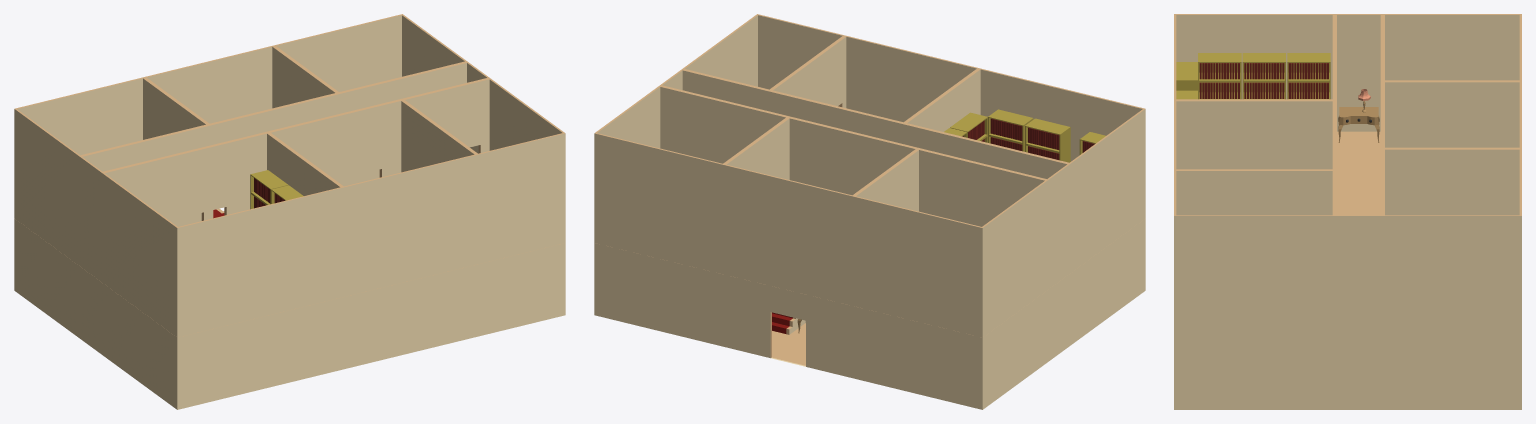
Rendered from hauntedmansion.glb.
3 renders of one model, left to right at view 1: azimuth 30°, elevation 25°; view 2: azimuth 150°, elevation 25°; view 3: azimuth 270°, elevation 25°, orthographic. The views are drawn at different scales.
Visible parts, largest first — view 1: Plane.002, Walls, Cube.007; view 2: Plane.002, Walls, Cube.012, Cube.011, Floor plane, Cube.009; view 3: Plane.002, Walls, Plane.003, Cube.014, Cube.016, Cube.015, Table.001, Cube.013.
Boxes of the visible parts, x1=… form: Plane.002: x1=14, y1=14, x2=565, y2=337; Walls: x1=14, y1=218, x2=565, y2=409; Cube.007: x1=250, y1=170, x2=288, y2=209; Plane.002: x1=594, y1=14, x2=1145, y2=337; Walls: x1=594, y1=218, x2=1145, y2=409; Cube.012: x1=1025, y1=118, x2=1070, y2=162; Cube.011: x1=988, y1=109, x2=1033, y2=151; Floor plane: x1=772, y1=323, x2=805, y2=365; Cube.009: x1=950, y1=112, x2=987, y2=142; Plane.002: x1=1174, y1=14, x2=1521, y2=332; Walls: x1=1174, y1=333, x2=1521, y2=409; Plane.003: x1=1337, y1=131, x2=1380, y2=215; Cube.014: x1=1198, y1=53, x2=1241, y2=99; Cube.016: x1=1287, y1=53, x2=1330, y2=99; Cube.015: x1=1242, y1=53, x2=1285, y2=99; Table.001: x1=1338, y1=107, x2=1379, y2=142; Cube.013: x1=1176, y1=62, x2=1197, y2=90.
Bounding box in the file's own units: 22 × 9.85 × 16.
